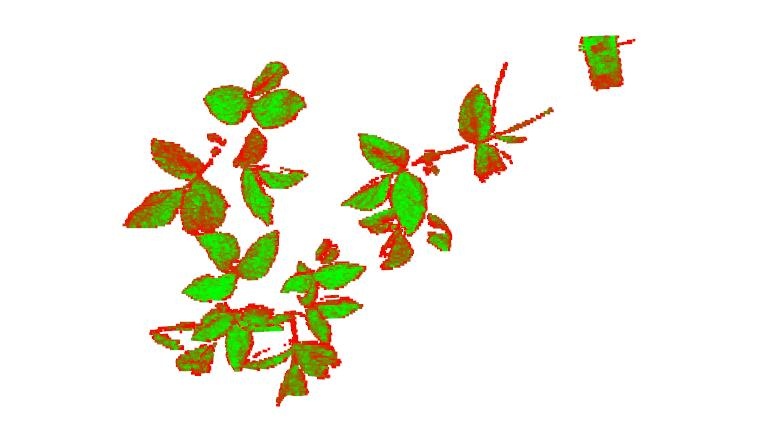mungbean: (341, 59, 555, 270), (122, 62, 311, 234), (148, 230, 276, 400), (278, 239, 372, 414)
